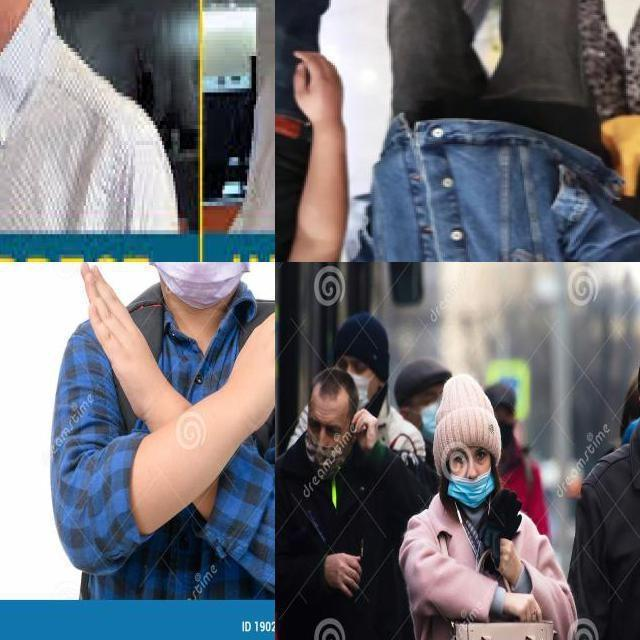hairnet: (448, 461, 492, 505)
